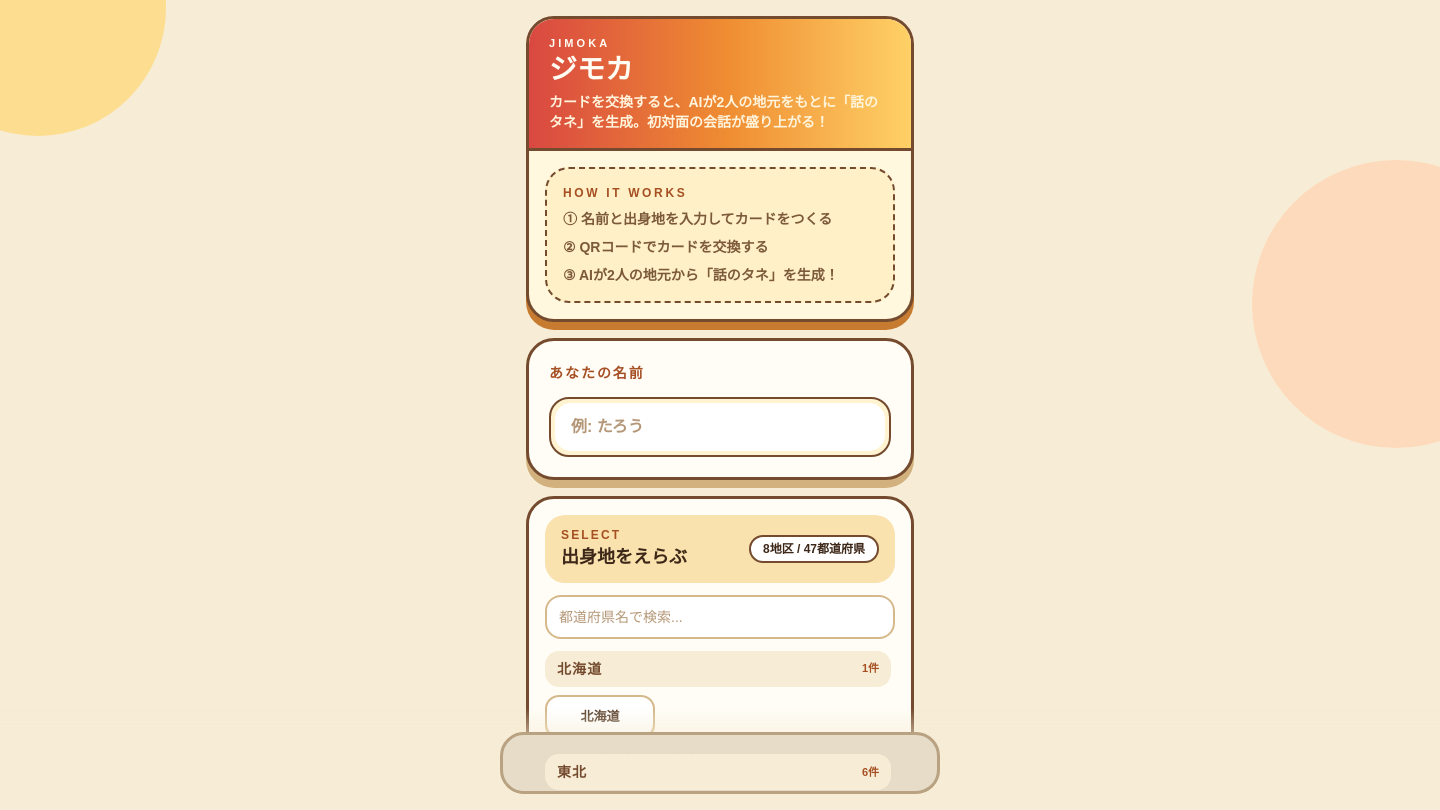
Test: PrefectureSelectPage › 検索時も地区ごとに都道府県を絞り込める
In the field with placeholder "都道府県名で検索...": (720, 617) [559,606,881,628], type "大阪"
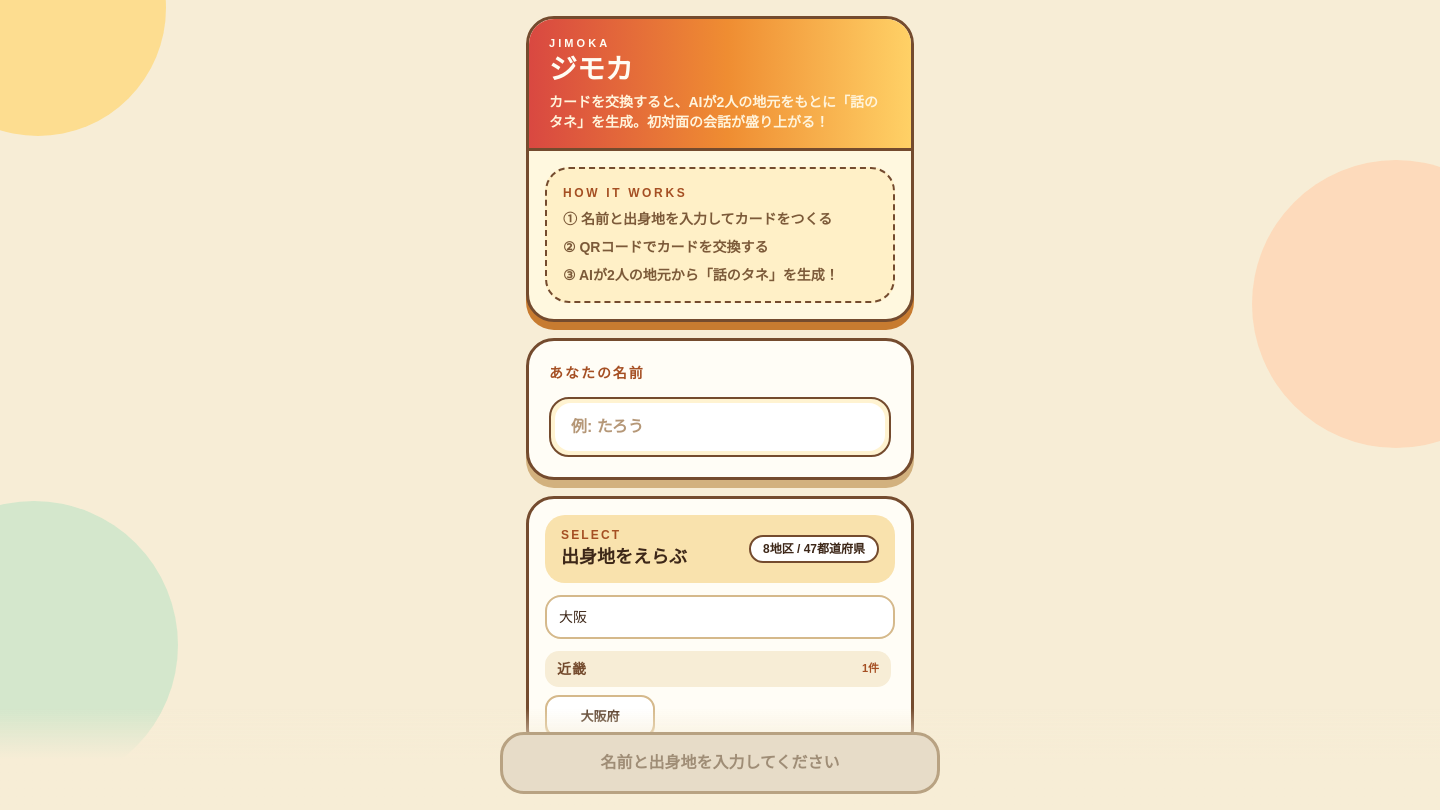
Expected: the heading "近畿" is shown, [557,658,587,678]
Expected: the button "大阪府" is shown, [545,694,655,738]
